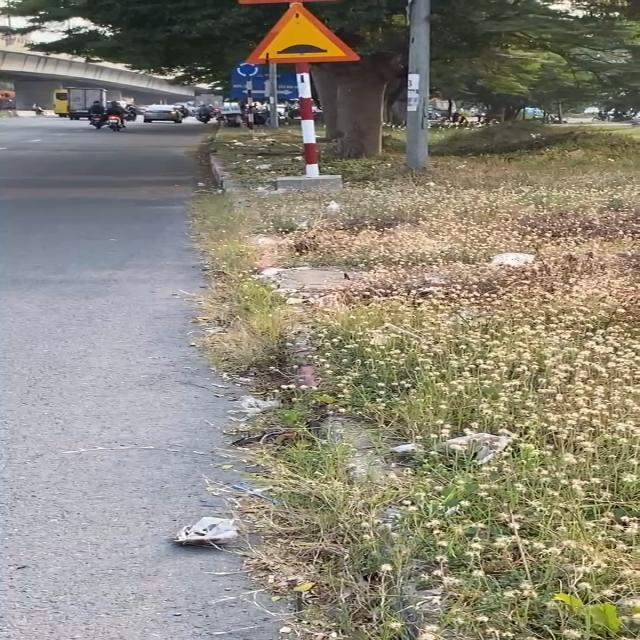221-duong-go-ghe: (241, 0, 355, 64)
303-noi-giao-nhau-chay-theo-vong-xuyen: (234, 61, 260, 81)
